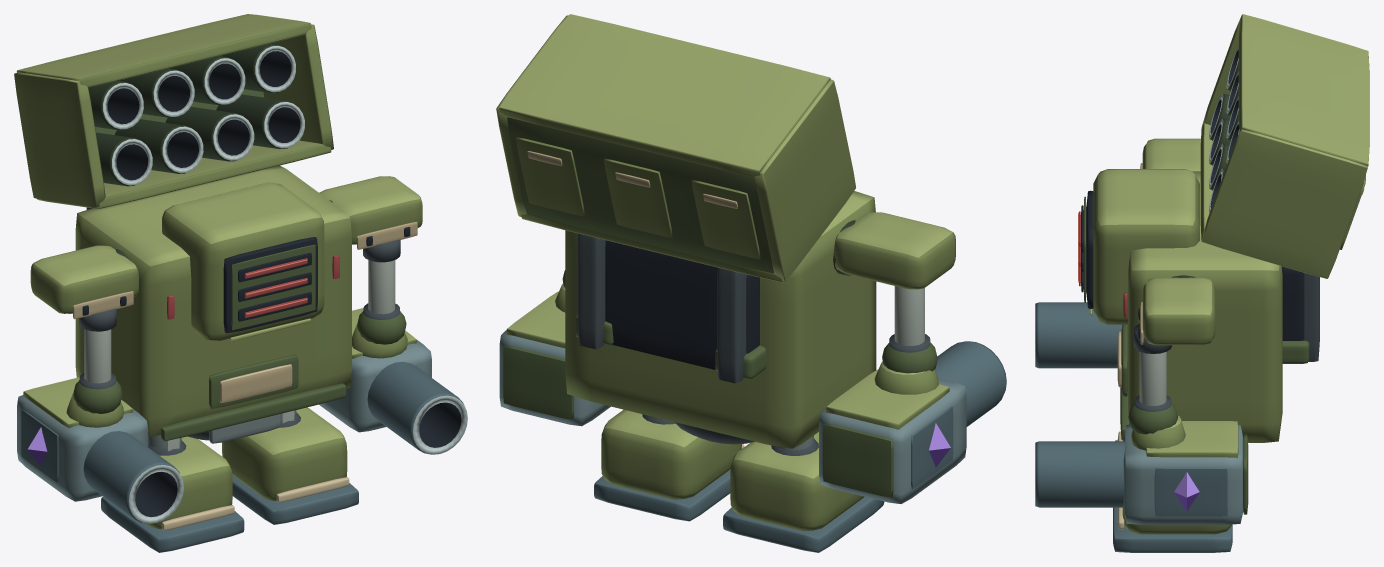
The model's file is military-robot.obj.
3 renders of one model, left to right at view 1: azimuth 30°, elevation 25°; view 2: azimuth 150°, elevation 25°; view 3: azimuth 270°, elevation 25°, orthographic. The views are drawn at different scales.
Visible parts, largest first — view 1: Torso_Rectangular_Armor, Head_Armor, Back_Launcher_Side_Armor_L, Back_Launcher_Top_Armor, Boot_Armor_R, Hand_Rocket_Launch_Tube_R, Hand_Rocket_Launch_Tube_L, Shoulder_Armor_L, Back_Launcher_Bottom_Armor, Hand_Launcher_Casing_L, Shoulder_Armor_R, Back_Launcher_Side_Armor_R (+36 smaller); view 2: Torso_Rectangular_Armor, Back_Launcher_Top_Armor, Back_Launcher_Carrier, Back_Launcher_Rear_Housing, Back_Launcher_Side_Armor_L, Boot_Armor_R, Boot_Armor_L, Shoulder_Armor_L, Hand_Launcher_Casing_L, Hand_Launcher_Rear_Cap_L, Hand_Launcher_Rear_Cap_R, Hand_Rocket_Launch_Tube_L (+18 smaller); view 3: Torso_Rectangular_Armor, Back_Launcher_Side_Armor_R, Back_Launcher_Top_Armor, Head_Armor, Hand_Rocket_Launch_Tube_R, Hand_Launcher_Casing_R, Hand_Rocket_Launch_Tube_L, Shoulder_Armor_R, Hand_Dorsal_Plate_R, Boot_Sole_R, Hand_Launcher_Top_Armor_R, Shoulder_Armor_L (+17 smaller).
Part boxes in pixels (bbox=[...]): Torso_Rectangular_Armor: bbox=[75, 165, 351, 436]; Head_Armor: bbox=[162, 182, 324, 341]; Back_Launcher_Side_Armor_L: bbox=[14, 72, 105, 206]; Back_Launcher_Top_Armor: bbox=[16, 14, 311, 87]; Boot_Armor_R: bbox=[222, 407, 347, 501]; Hand_Rocket_Launch_Tube_R: bbox=[367, 361, 467, 454]; Hand_Rocket_Launch_Tube_L: bbox=[83, 431, 183, 523]; Shoulder_Armor_L: bbox=[30, 245, 138, 313]; Back_Launcher_Bottom_Armor: bbox=[37, 140, 331, 208]; Hand_Launcher_Casing_L: bbox=[17, 395, 148, 501]; Shoulder_Armor_R: bbox=[319, 176, 422, 244]; Back_Launcher_Side_Armor_R: bbox=[263, 24, 333, 149]; Torso_Rectangular_Armor: bbox=[565, 191, 876, 448]; Back_Launcher_Top_Armor: bbox=[499, 14, 830, 176]; Back_Launcher_Carrier: bbox=[605, 240, 759, 369]; Back_Launcher_Rear_Housing: bbox=[507, 117, 773, 273]; Back_Launcher_Side_Armor_L: bbox=[754, 79, 855, 281]; Boot_Armor_R: bbox=[601, 409, 741, 499]; Boot_Armor_L: bbox=[730, 432, 864, 531]; Shoulder_Armor_L: bbox=[834, 212, 955, 289]; Hand_Launcher_Casing_L: bbox=[819, 378, 966, 503]; Hand_Launcher_Rear_Cap_L: bbox=[822, 423, 893, 497]; Hand_Launcher_Rear_Cap_R: bbox=[503, 345, 573, 419]; Hand_Rocket_Launch_Tube_L: bbox=[935, 341, 1006, 426]; Torso_Rectangular_Armor: bbox=[1128, 171, 1282, 442]; Back_Launcher_Side_Armor_R: bbox=[1202, 129, 1367, 277]; Back_Launcher_Top_Armor: bbox=[1238, 14, 1369, 166]; Head_Armor: bbox=[1093, 169, 1199, 324]; Hand_Rocket_Launch_Tube_R: bbox=[1035, 441, 1125, 507]; Hand_Launcher_Casing_R: bbox=[1123, 424, 1243, 524]; Hand_Rocket_Launch_Tube_L: bbox=[1035, 302, 1122, 368]; Shoulder_Armor_R: bbox=[1142, 277, 1215, 345]; Hand_Dorsal_Plate_R: bbox=[1154, 468, 1227, 516]; Boot_Sole_R: bbox=[1113, 507, 1232, 552]; Hand_Launcher_Top_Armor_R: bbox=[1146, 421, 1238, 457]; Shoulder_Armor_L: bbox=[1142, 138, 1200, 171].
Bounding box in the file's own units: 4.16 × 4.41 × 3.07.
